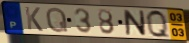3: (73, 7, 93, 35)
8: (97, 8, 116, 36)
K: (23, 6, 44, 33)
N: (123, 9, 148, 37)
Q: (145, 9, 172, 40), (45, 6, 69, 34)
